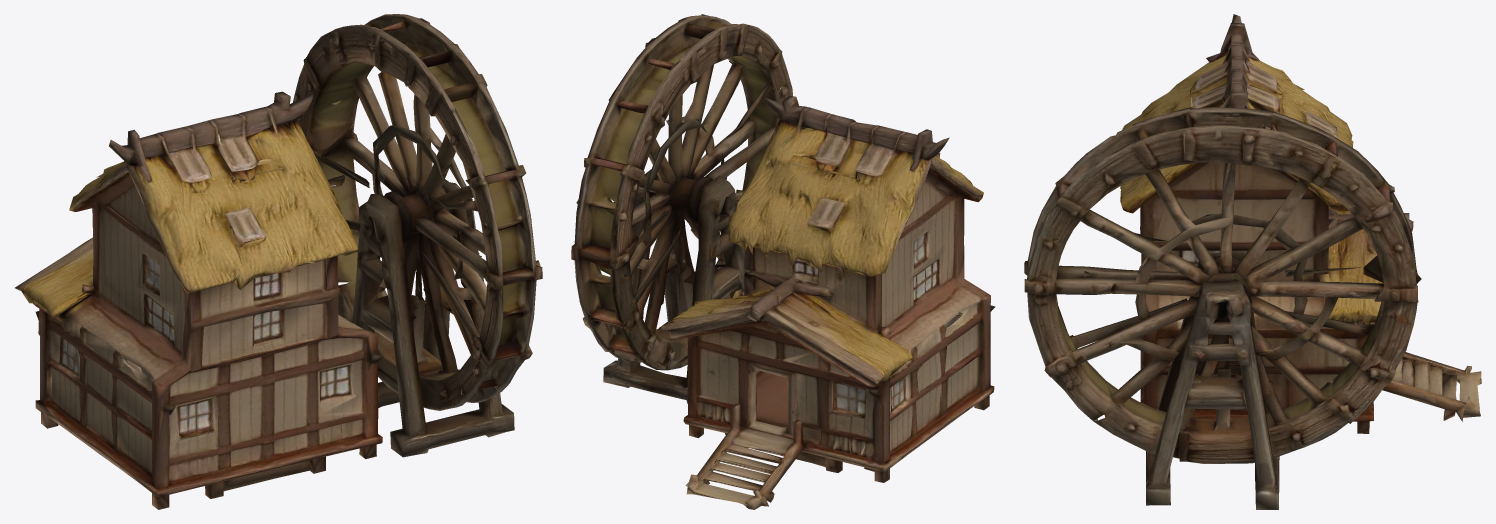
The model's file is waterwheel.glb.
The picture shows the model from 3 angles, left to right: view 1: azimuth 30°, elevation 25°; view 2: azimuth 150°, elevation 25°; view 3: azimuth 270°, elevation 25°; orthographic projection. The views are drawn at different scales.
Visible parts, largest first — view 1: tripo_node_fb4e9e89-4c21-4ee9-9df2-f1aa7ae67aeb; view 2: tripo_node_fb4e9e89-4c21-4ee9-9df2-f1aa7ae67aeb; view 3: tripo_node_fb4e9e89-4c21-4ee9-9df2-f1aa7ae67aeb.
Boxes of the visible parts, x1,y1,x2,y2 form: tripo_node_fb4e9e89-4c21-4ee9-9df2-f1aa7ae67aeb: (15, 14, 542, 509); tripo_node_fb4e9e89-4c21-4ee9-9df2-f1aa7ae67aeb: (571, 14, 995, 509); tripo_node_fb4e9e89-4c21-4ee9-9df2-f1aa7ae67aeb: (1024, 14, 1481, 509).
Bounding box in the file's own units: 0.8932 × 0.8831 × 1.
Materials: 1 (1 with a texture image).
